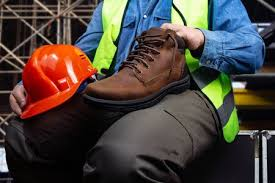Helmet: (18, 44, 95, 114)
Jacket: (170, 1, 269, 146)
Shoes: (100, 29, 189, 106)
